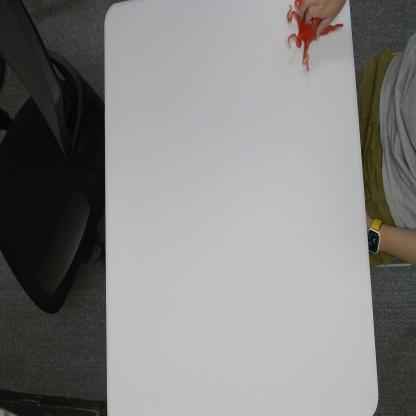Hand: (295, 0, 344, 39)
Octopus: (284, 0, 344, 76)
